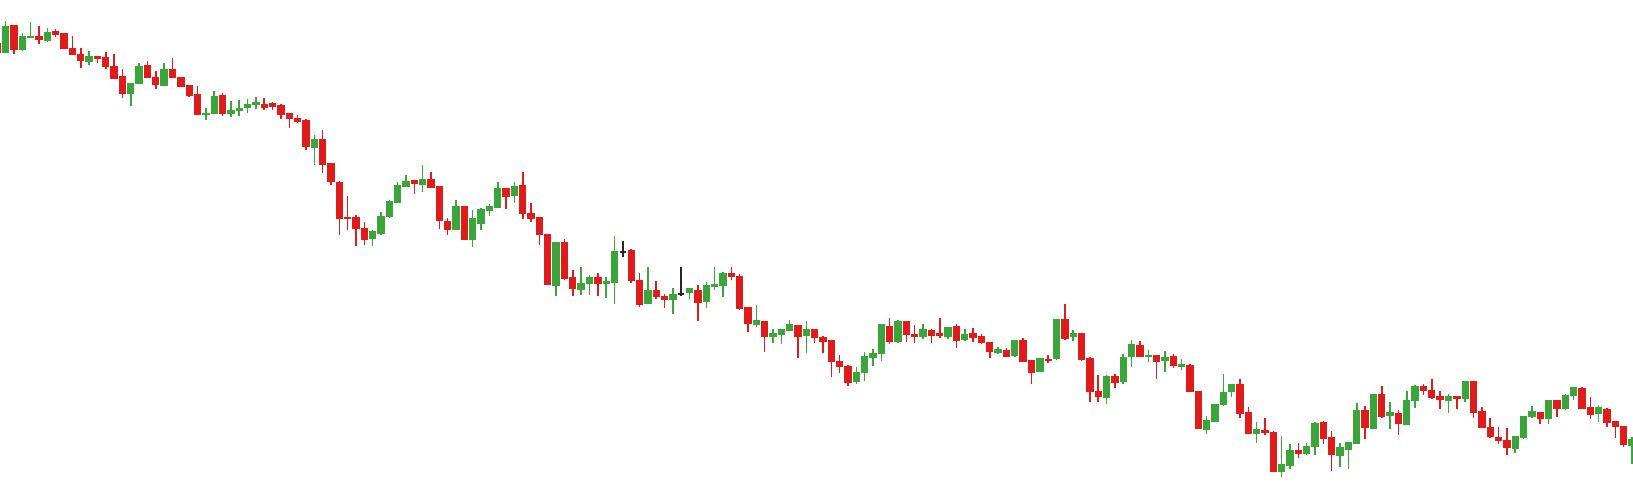sell: (1009, 293, 1086, 357)
